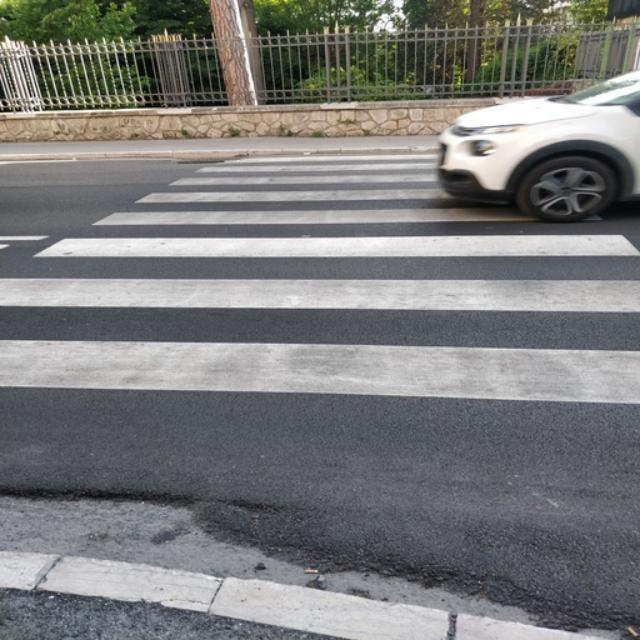sidewalk: (0, 154, 639, 404)
